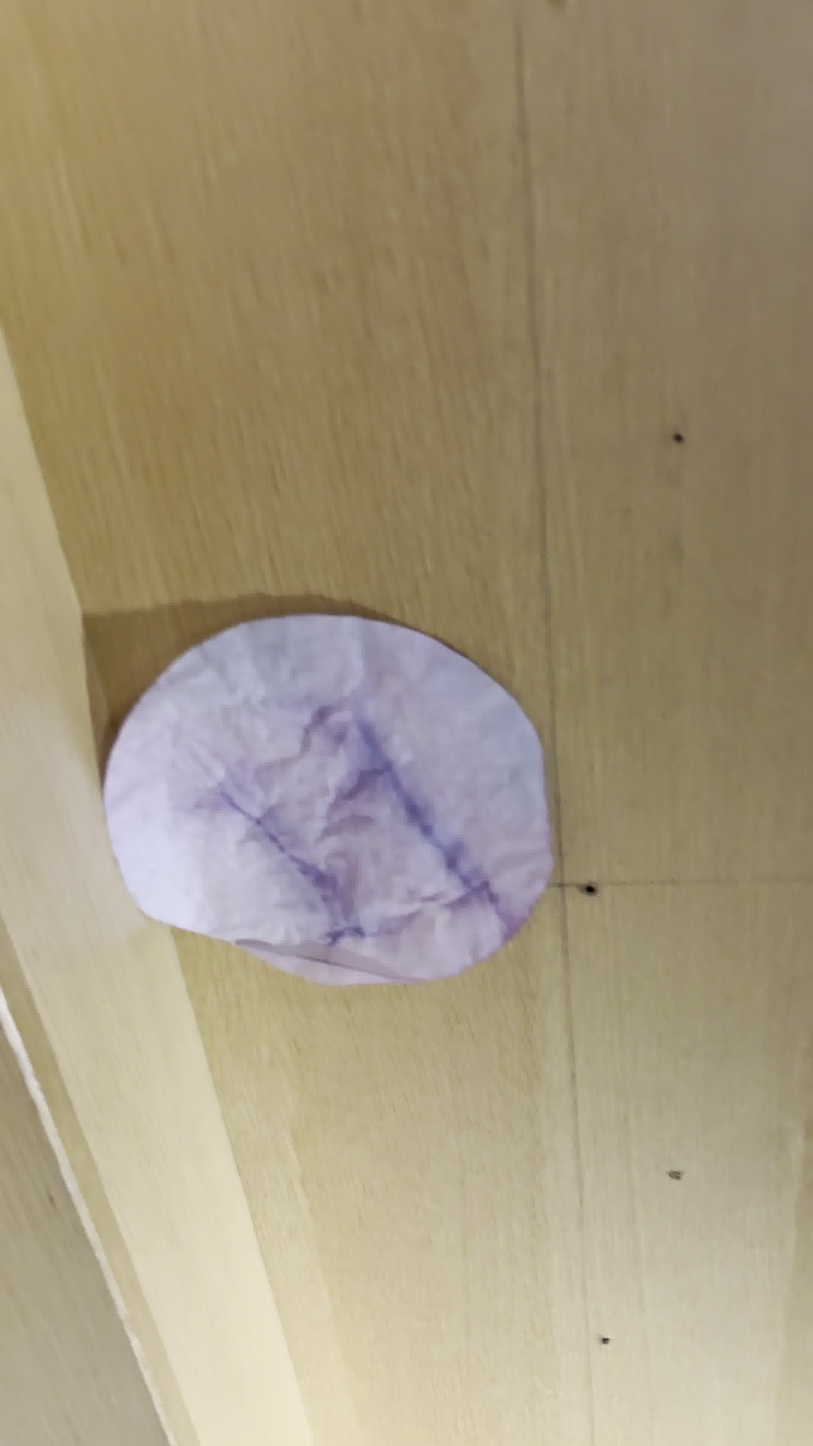Target: (98, 615, 551, 985)
